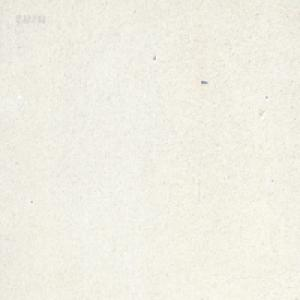Nail: (201, 79, 207, 84)
